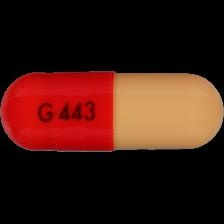0115-4433: (0, 0, 224, 224)
